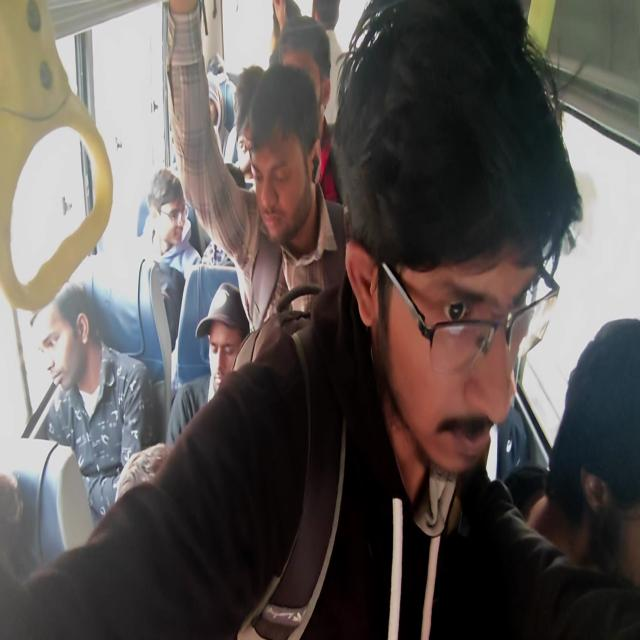person: (382, 233, 544, 483), (243, 62, 317, 240), (584, 320, 640, 540), (0, 481, 50, 628), (198, 134, 246, 270), (198, 283, 250, 393), (37, 303, 80, 391), (147, 165, 186, 232), (270, 0, 304, 64), (312, 0, 340, 27), (209, 89, 220, 126)
